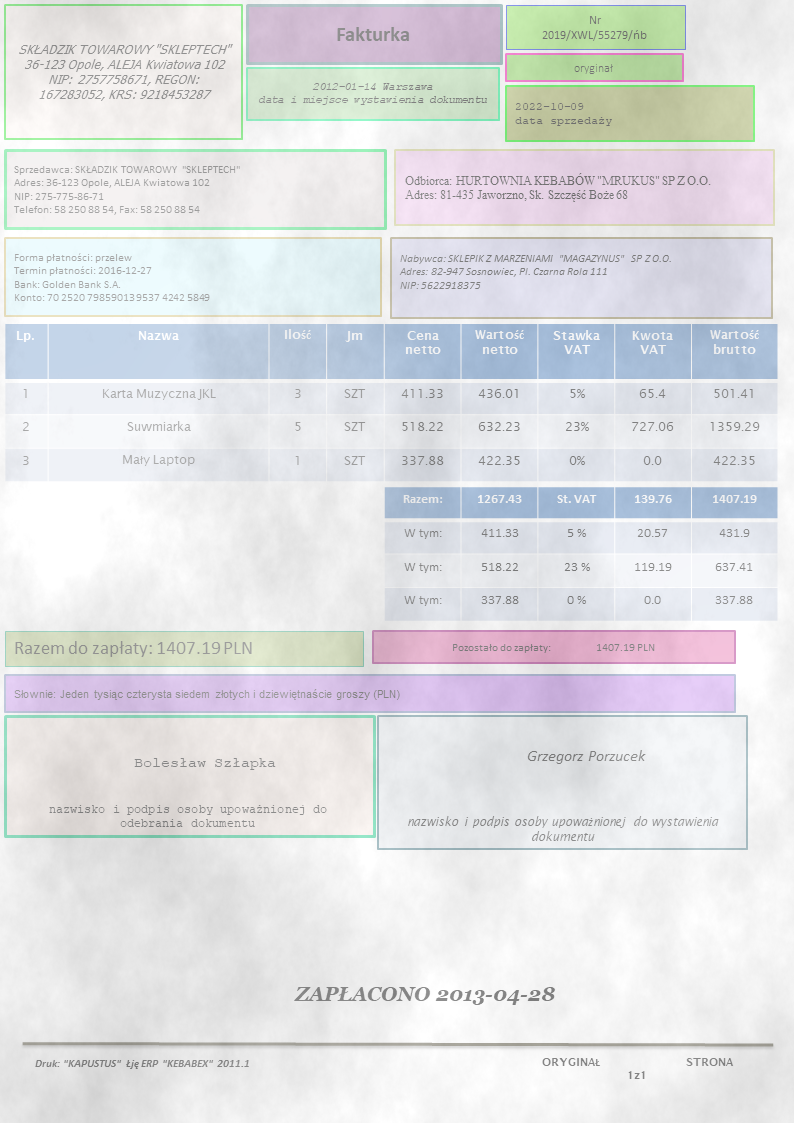Table: (3, 321, 778, 484), (383, 483, 780, 623)
TextBox: (16, 40, 236, 102), (11, 160, 243, 217), (397, 250, 674, 294), (10, 248, 212, 305), (401, 169, 713, 203), (405, 813, 721, 846), (45, 801, 330, 829), (290, 981, 558, 1010), (256, 79, 490, 108), (11, 685, 402, 702), (538, 1052, 738, 1084), (10, 636, 254, 659), (32, 1054, 252, 1072), (448, 638, 658, 656), (539, 10, 647, 44), (511, 99, 615, 130), (130, 752, 276, 774), (524, 746, 648, 765), (332, 23, 412, 45), (571, 61, 616, 76)
